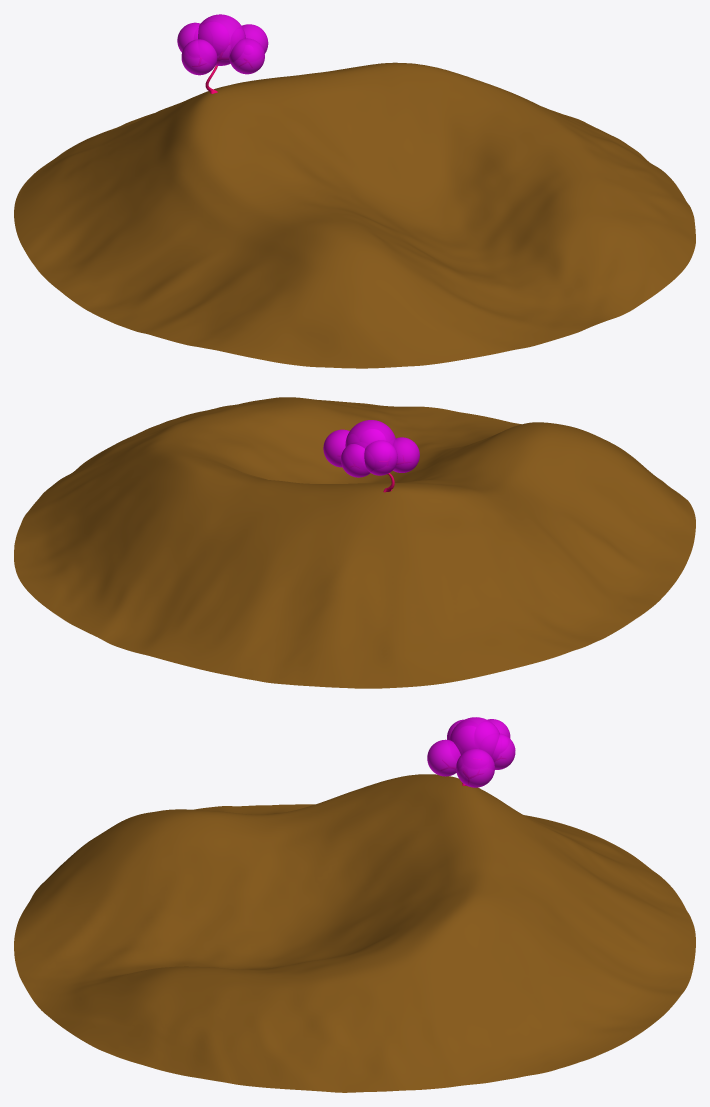
The model's file is TreeOnMountain.fbx.
3 views of the same model, one above another, from view 1: azimuth 30°, elevation 25°; view 2: azimuth 150°, elevation 25°; view 3: azimuth 270°, elevation 25° (orthographic). The views are drawn at different scales.
Parts seen in each view (by area): view 1: Plane, Icosphere.005, Icosphere.004, Icosphere; view 2: Plane, Icosphere.003, Icosphere.005, Icosphere.004, Icosphere.001, Icosphere.002; view 3: Plane, Icosphere.005, Icosphere.002, Icosphere, Icosphere.001.
Boxes of the visible parts, <box> form: Plane: <box>14,62,695,368</box>; Icosphere.005: <box>198,14,245,65</box>; Icosphere.004: <box>181,39,217,75</box>; Icosphere: <box>229,38,264,74</box>; Plane: <box>14,397,695,688</box>; Icosphere.003: <box>364,440,397,475</box>; Icosphere.005: <box>345,420,395,448</box>; Icosphere.004: <box>393,437,419,472</box>; Icosphere.001: <box>341,444,370,477</box>; Icosphere.002: <box>323,429,349,467</box>; Plane: <box>14,774,695,1092</box>; Icosphere.005: <box>449,717,499,757</box>; Icosphere.002: <box>456,748,494,787</box>; Icosphere: <box>427,739,460,776</box>; Icosphere.001: <box>492,733,515,769</box>.
Size of the model in its own units: 169 by 169 by 52.37.
